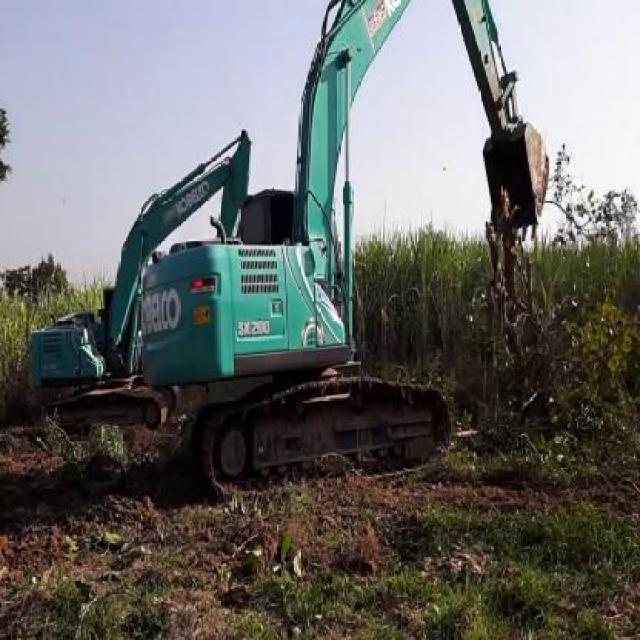Excavator: (138, 0, 552, 497), (29, 123, 256, 434)
